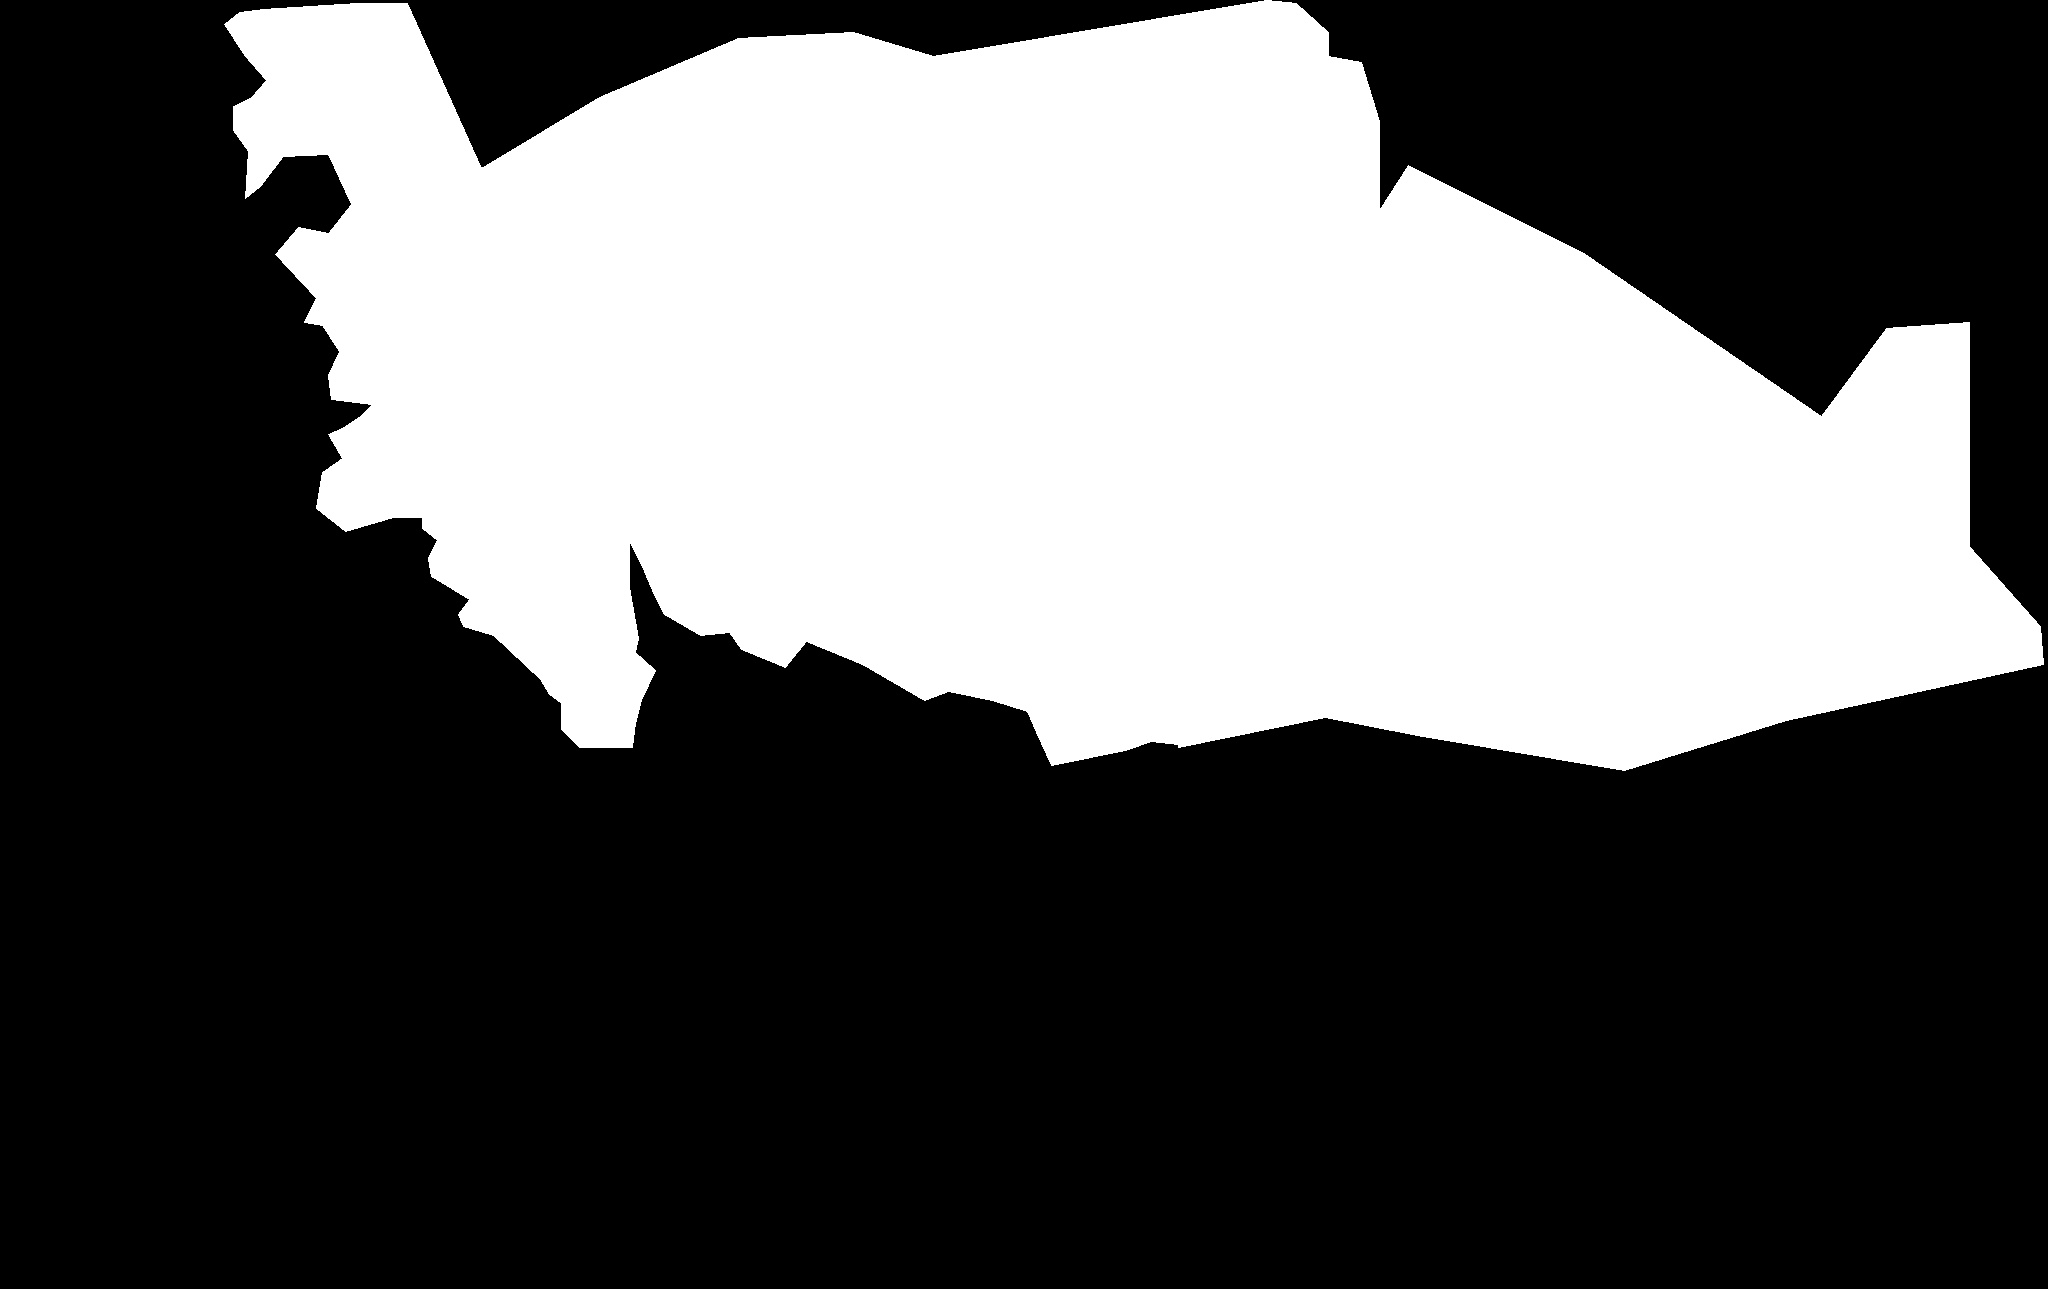Fire: (278, 244, 855, 751), (876, 275, 1086, 750)
